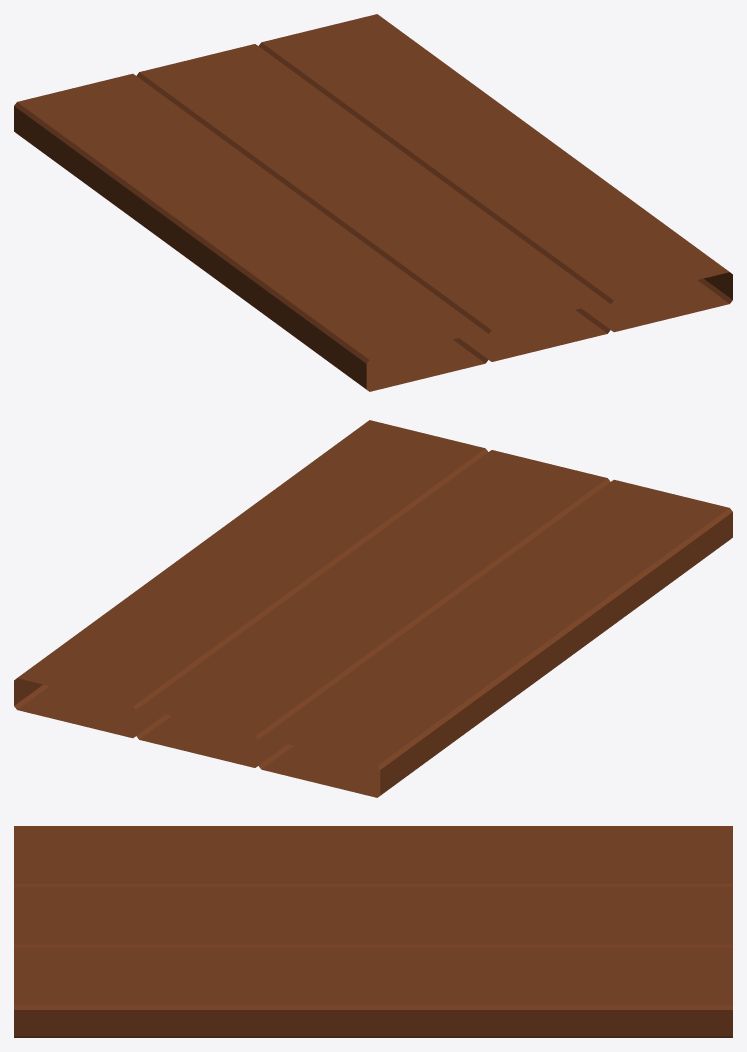
Rendered from Table_plank_middle.fbx.
3 views of the same model, one above another, from view 1: azimuth 30°, elevation 25°; view 2: azimuth 150°, elevation 25°; view 3: azimuth 270°, elevation 25° (orthographic).
Parts seen in each view (by area): view 1: Table_plank_middle_object; view 2: Table_plank_middle_object; view 3: Table_plank_middle_object.
Boxes of the visible parts, box(x1,y1,x2,y2) form: Table_plank_middle_object: box(14, 14, 732, 391); Table_plank_middle_object: box(14, 420, 732, 797); Table_plank_middle_object: box(14, 826, 732, 1037).
Size of what is drawn, in the model's own units: 1200 by 100 by 2000.
